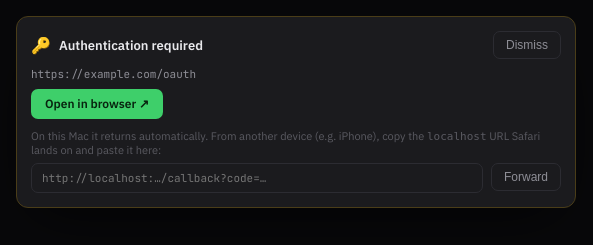
Test: a failed forward shows why and keeps the pasted URL for a retry
In the field with placeholder "http://localhost:…/callback?code=…": [257, 178] box [31, 163, 483, 193], type "localhost:1/cb?code=x"
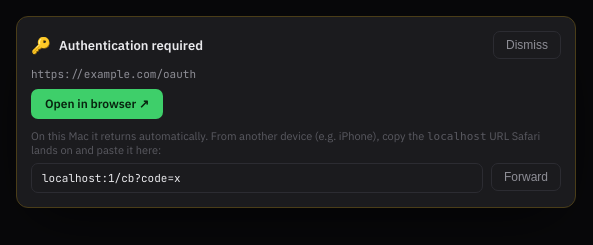
Click the button "Forward": [526, 177] box [491, 163, 561, 191]
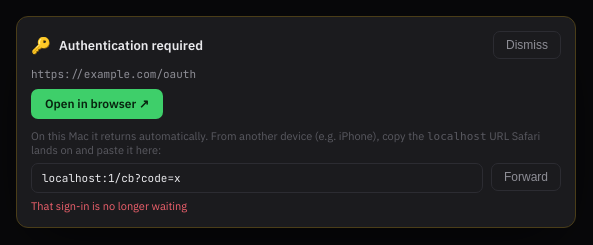
Result: the text "That sign-in is no longer waiting" is shown at [31, 199, 187, 213]
